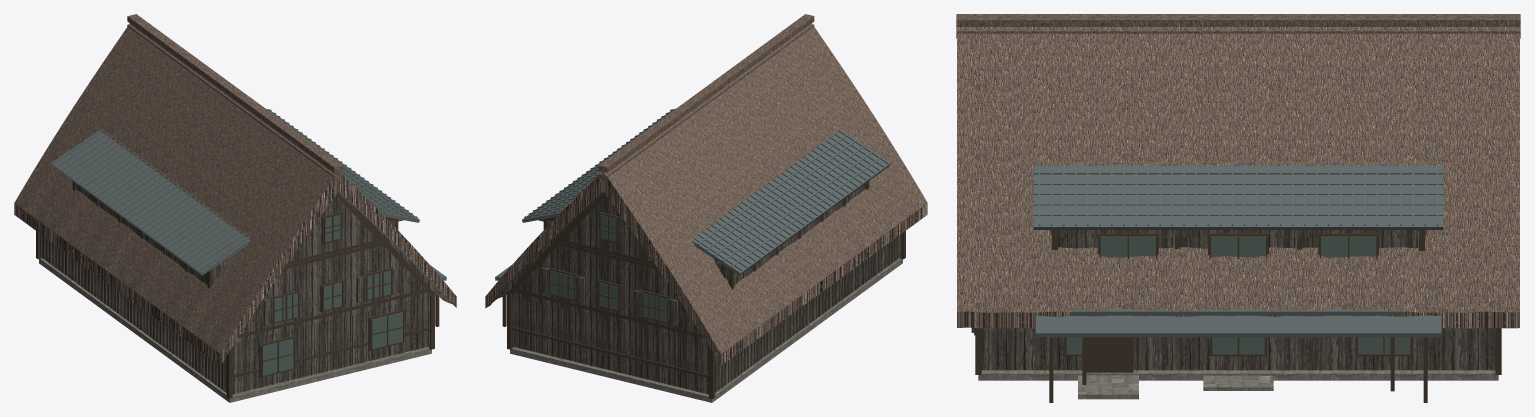
The model's file is village-library.glb.
The picture shows the model from 3 angles, left to right: view 1: azimuth 30°, elevation 25°; view 2: azimuth 150°, elevation 25°; view 3: azimuth 270°, elevation 25°; orthographic projection. The views are drawn at different scales.
Visible parts, largest first — view 1: farmhouse-shutters_Bound kaya reeds.007, farmhouse_Smoke-aged cedar.007, merchant_Weathered grey roof tile.007, farmhouse_Bound kaya reeds.007, farmhouse-shutters_Smoke-aged cedar.007, farmhouse_Dark structural timber.007, farmhouse_Foundation granite.007, farmhouse_Recessed muted glazing.002, farmhouse-shutters_Dark structural timber.007, merchant_Smoke-aged cedar.007, farmhouse-shutters_Recessed muted glazing.002; view 2: farmhouse-shutters_Bound kaya reeds.007, farmhouse_Smoke-aged cedar.007, merchant_Weathered grey roof tile.007, farmhouse_Bound kaya reeds.007, farmhouse-shutters_Smoke-aged cedar.007, farmhouse_Dark structural timber.007, farmhouse_Foundation granite.007, farmhouse-shutters_Dark structural timber.007, farmhouse_Recessed muted glazing.002, farmhouse-shutters_Recessed muted glazing.002, merchant_Smoke-aged cedar.007; view 3: farmhouse-shutters_Bound kaya reeds.007, merchant_Weathered grey roof tile.007, farmhouse_Smoke-aged cedar.007, farmhouse_Weathered grey roof tile.007, farmhouse_Foundation granite.007, farmhouse_Bound kaya reeds.007, merchant_Recessed muted glazing.002, farmhouse_Dark structural timber.007, merchant-boarded_Smoke-aged cedar.007, farmhouse-shutters_Dark structural timber.007, farmhouse_Recessed muted glazing.002, merchant_Dark structural timber.007 (+2 smaller).
Boxes of the visible parts, x1,y1,x2,y2 form: farmhouse-shutters_Bound kaya reeds.007: [14, 14, 456, 364]; farmhouse_Smoke-aged cedar.007: [40, 192, 440, 394]; merchant_Weathered grey roof tile.007: [51, 109, 419, 275]; farmhouse_Bound kaya reeds.007: [14, 24, 456, 365]; farmhouse-shutters_Smoke-aged cedar.007: [235, 192, 440, 343]; farmhouse_Dark structural timber.007: [36, 193, 439, 398]; farmhouse_Foundation granite.007: [39, 258, 431, 402]; farmhouse_Recessed muted glazing.002: [263, 220, 402, 375]; farmhouse-shutters_Dark structural timber.007: [240, 197, 434, 370]; merchant_Smoke-aged cedar.007: [76, 183, 403, 284]; farmhouse-shutters_Recessed muted glazing.002: [274, 215, 402, 343]; farmhouse-shutters_Bound kaya reeds.007: [485, 14, 927, 363]; farmhouse_Smoke-aged cedar.007: [501, 192, 901, 394]; merchant_Weathered grey roof tile.007: [522, 108, 890, 275]; farmhouse_Bound kaya reeds.007: [485, 24, 927, 365]; farmhouse-shutters_Smoke-aged cedar.007: [501, 192, 705, 342]; farmhouse_Dark structural timber.007: [502, 193, 905, 398]; farmhouse_Foundation granite.007: [510, 258, 902, 402]; farmhouse-shutters_Dark structural timber.007: [509, 196, 715, 397]; farmhouse_Recessed muted glazing.002: [559, 220, 658, 320]; farmhouse-shutters_Recessed muted glazing.002: [550, 215, 667, 322]; merchant_Smoke-aged cedar.007: [538, 183, 865, 285]; farmhouse-shutters_Bound kaya reeds.007: [956, 14, 1520, 312]; merchant_Weathered grey roof tile.007: [1033, 162, 1443, 315]; farmhouse_Smoke-aged cedar.007: [981, 328, 1495, 370]; farmhouse_Weathered grey roof tile.007: [1035, 315, 1441, 337]; farmhouse_Foundation granite.007: [978, 370, 1498, 399]; farmhouse_Bound kaya reeds.007: [956, 27, 1520, 328]; merchant_Recessed muted glazing.002: [1100, 236, 1376, 257]; farmhouse_Dark structural timber.007: [972, 328, 1501, 402]; merchant-boarded_Smoke-aged cedar.007: [1050, 230, 1426, 238]; farmhouse-shutters_Dark structural timber.007: [971, 328, 1501, 374]; farmhouse_Recessed muted glazing.002: [973, 328, 1410, 354]; merchant_Dark structural timber.007: [1052, 230, 1424, 391].
Bounding box in the file's own units: 13.15 × 10.7 × 18.44.
Materials: 7 (4 with a texture image).
